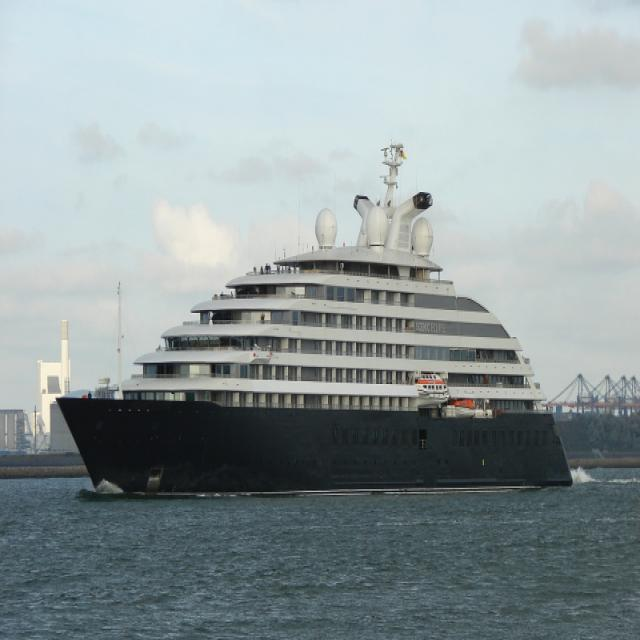cruises: (55, 145, 582, 509)
